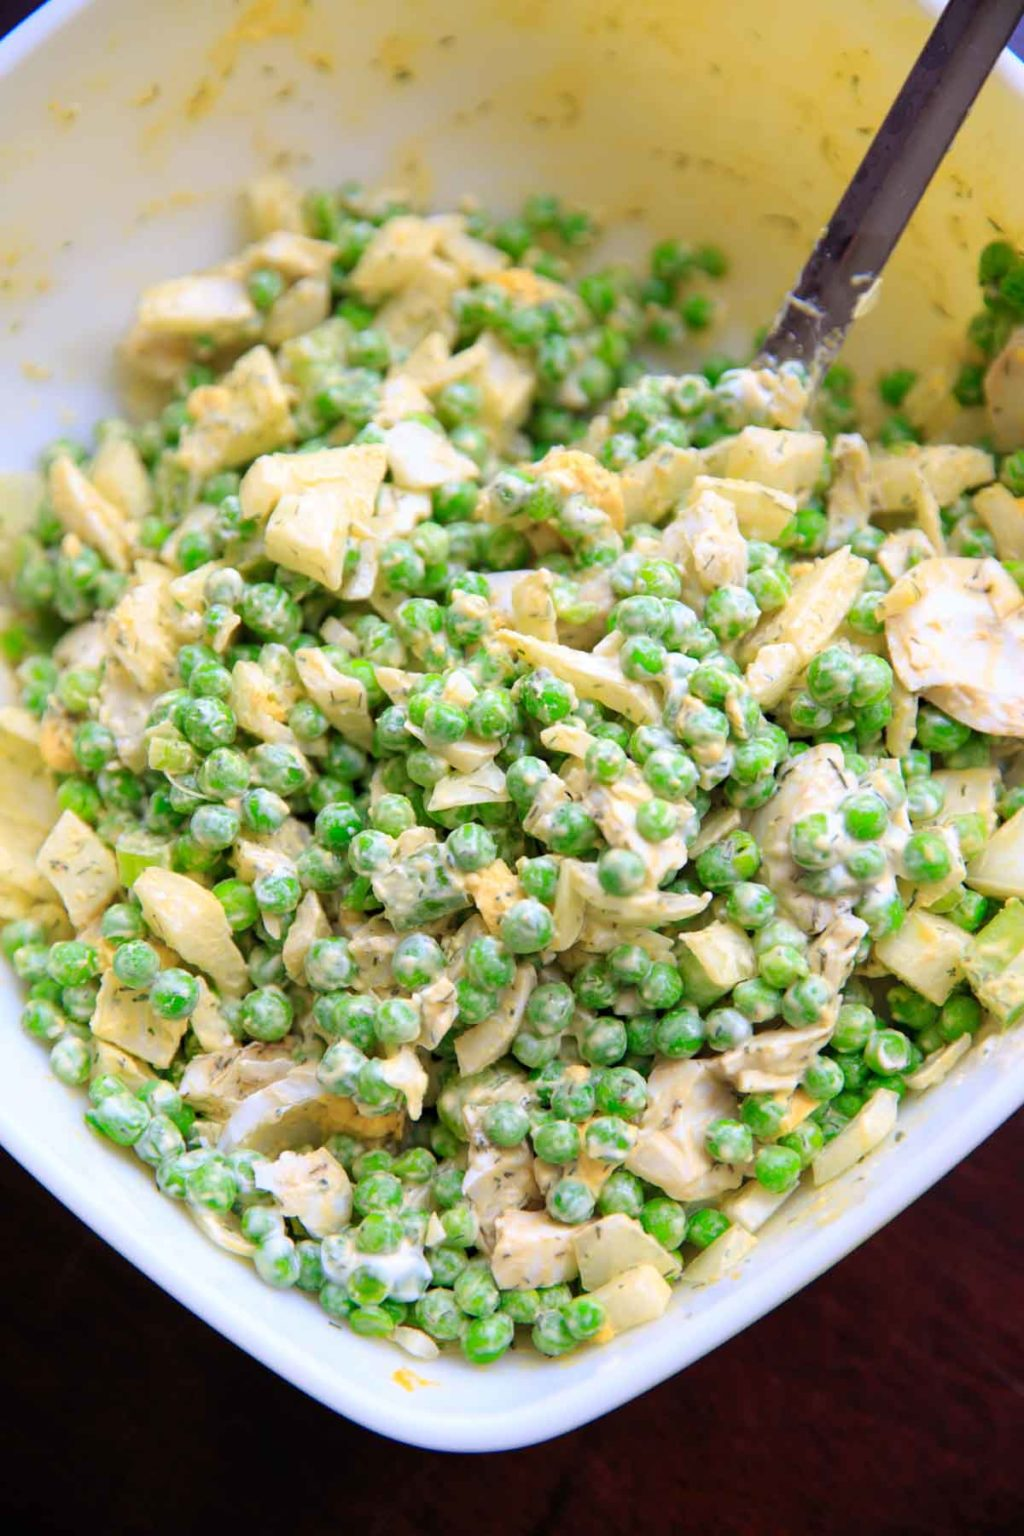boiled peas: (201, 670, 805, 1152)
